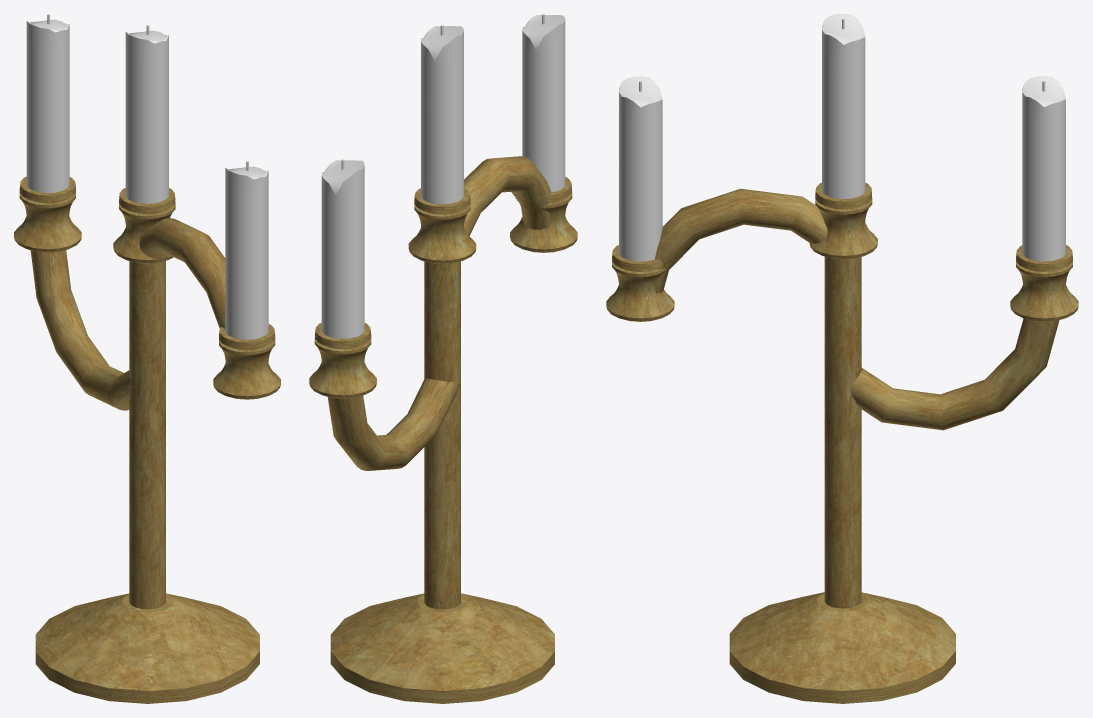
File: TableCandles3Arms.FBX
3 views of the same model, side by side, from view 1: azimuth 30°, elevation 25°; view 2: azimuth 150°, elevation 25°; view 3: azimuth 270°, elevation 25° (orthographic).
Parts seen in each view (by area): view 1: Cylinder010, Cylinder009, Cylinder003, Cylinder001, Cylinder006, Tube001, Cylinder007 (×2), Tube002, Cylinder008; view 2: Cylinder010, Cylinder009, Cylinder003, Cylinder001, Cylinder006, Tube001, Cylinder007 (×2), Tube002, Cylinder008; view 3: Cylinder010, Cylinder009, Tube001, Cylinder003, Cylinder001, Cylinder006, Tube002, Cylinder007 (×2), Cylinder008.
Part boxes in pixels (<box>): Cylinder010: <box>35,593,259,703</box>; Cylinder009: <box>129,261,165,609</box>; Cylinder003: <box>26,19,69,192</box>; Cylinder001: <box>125,30,168,203</box>; Cylinder006: <box>225,166,268,339</box>; Tube001: <box>30,250,134,410</box>; Cylinder007 (×2): <box>113,188,280,399</box>; Tube002: <box>139,218,225,328</box>; Cylinder008: <box>14,176,81,252</box>; Cylinder010: <box>330,593,554,703</box>; Cylinder009: <box>424,261,460,609</box>; Cylinder003: <box>321,160,364,338</box>; Cylinder001: <box>421,26,463,204</box>; Cylinder006: <box>522,15,565,192</box>; Tube001: <box>327,378,460,470</box>; Cylinder007 (×2): <box>408,177,577,263</box>; Tube002: <box>464,156,551,236</box>; Cylinder008: <box>309,322,376,398</box>; Cylinder010: <box>729,592,955,703</box>; Cylinder009: <box>824,256,861,608</box>; Tube001: <box>850,318,1059,430</box>; Cylinder003: <box>1022,76,1065,261</box>; Cylinder001: <box>822,14,865,198</box>; Cylinder006: <box>619,76,662,261</box>; Tube002: <box>654,188,827,293</box>; Cylinder007 (×2): <box>606,182,877,321</box>; Cylinder008: <box>1010,245,1078,321</box>.
Size of the model in its own units: 6.11 by 18.65 by 12.55.
1 material, 1 textured.
